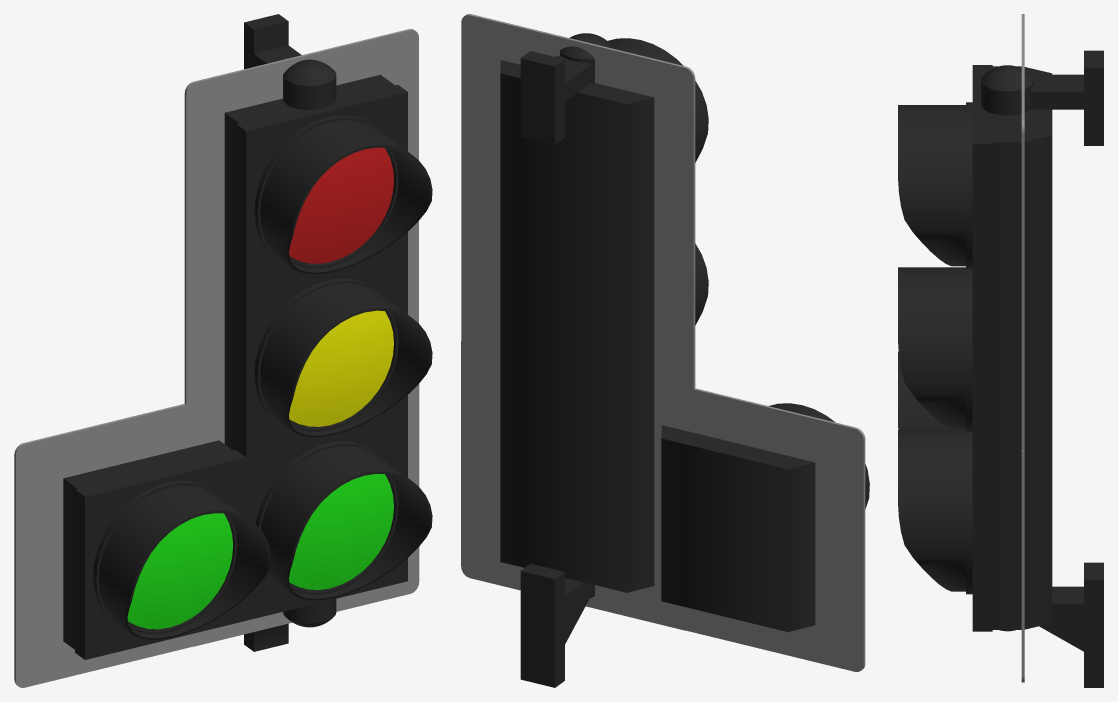
The model's file is model_trafficLight (3).FBX.
3 renders of one model, left to right at view 1: azimuth 30°, elevation 25°; view 2: azimuth 150°, elevation 25°; view 3: azimuth 270°, elevation 25°, orthographic.
Parts seen in each view (by area): view 1: Svetofor, Ekran, 004, 3, 2, 1; view 2: Svetofor, Ekran; view 3: Svetofor, Ekran.
Boxes of the visible parts, x1=… form: Svetofor: x1=63, y1=14, x2=432, y2=659; Ekran: x1=14, y1=29, x2=419, y2=687; 004: x1=127, y1=513, x2=233, y2=629; 3: x1=289, y1=147, x2=393, y2=263; 2: x1=289, y1=310, x2=393, y2=426; 1: x1=289, y1=473, x2=393, y2=589; Svetofor: x1=500, y1=33, x2=869, y2=687; Ekran: x1=461, y1=14, x2=865, y2=671; Svetofor: x1=898, y1=50, x2=1103, y2=687; Ekran: x1=1021, y1=14, x2=1024, y2=682.
Bounding box in the file's own units: 35.75 × 52.72 × 15.86.
